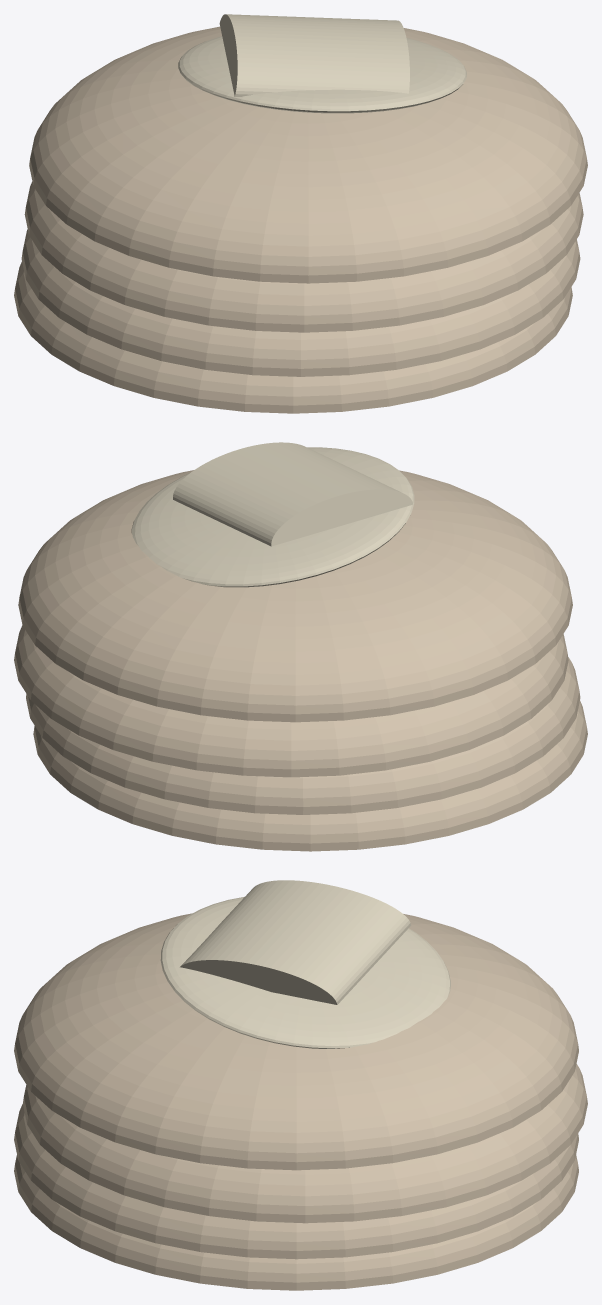
Rendered from Zain - Pancakes.glb.
3 renders of one model, top to bottom at view 1: azimuth 30°, elevation 25°; view 2: azimuth 150°, elevation 25°; view 3: azimuth 270°, elevation 25°, orthographic.
Parts seen in each view (by area): view 1: Mesh_Mesh_head_geo.001_lambert2SG.001; view 2: Mesh_Mesh_head_geo.001_lambert2SG.001; view 3: Mesh_Mesh_head_geo.001_lambert2SG.001.
Boxes of the visible parts, box(x1,y1,x2,y2) form: Mesh_Mesh_head_geo.001_lambert2SG.001: box(14, 14, 587, 413); Mesh_Mesh_head_geo.001_lambert2SG.001: box(14, 442, 587, 851); Mesh_Mesh_head_geo.001_lambert2SG.001: box(14, 880, 587, 1290).
Size of the model in its own units: 0.066 by 0.0331 by 0.065.
